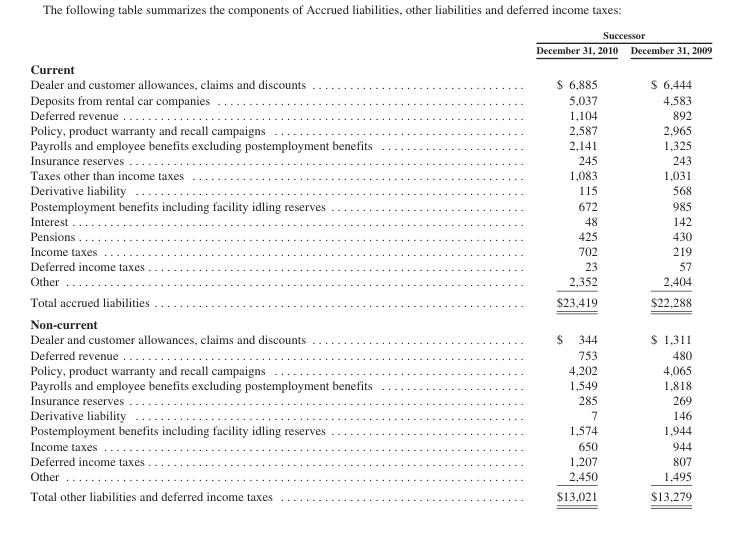table: (29, 28, 711, 502)
table column: (29, 28, 453, 502), (453, 28, 623, 502), (623, 28, 711, 502)
table column header: (29, 28, 711, 58)
table projected row header: (29, 312, 711, 331), (29, 58, 711, 76)
table row: (29, 291, 711, 312), (29, 312, 711, 331), (29, 58, 711, 76), (29, 273, 711, 291), (29, 467, 711, 485), (29, 41, 711, 58), (29, 485, 711, 502), (29, 106, 711, 122), (29, 212, 711, 228), (29, 361, 711, 377), (29, 76, 711, 91), (29, 91, 711, 106), (29, 122, 711, 137), (29, 137, 711, 152), (29, 152, 711, 167), (29, 167, 711, 182), (29, 182, 711, 197), (29, 197, 711, 212), (29, 228, 711, 243), (29, 243, 711, 258), (29, 258, 711, 273), (29, 331, 711, 346), (29, 346, 711, 361), (29, 377, 711, 392), (29, 392, 711, 407), (29, 407, 711, 422), (29, 422, 711, 437), (29, 437, 711, 452), (29, 452, 711, 467), (29, 28, 711, 41)
table spanning cell: (453, 28, 711, 41)
